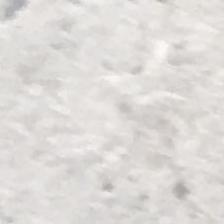Non_Crack: (4, 23, 224, 214)
